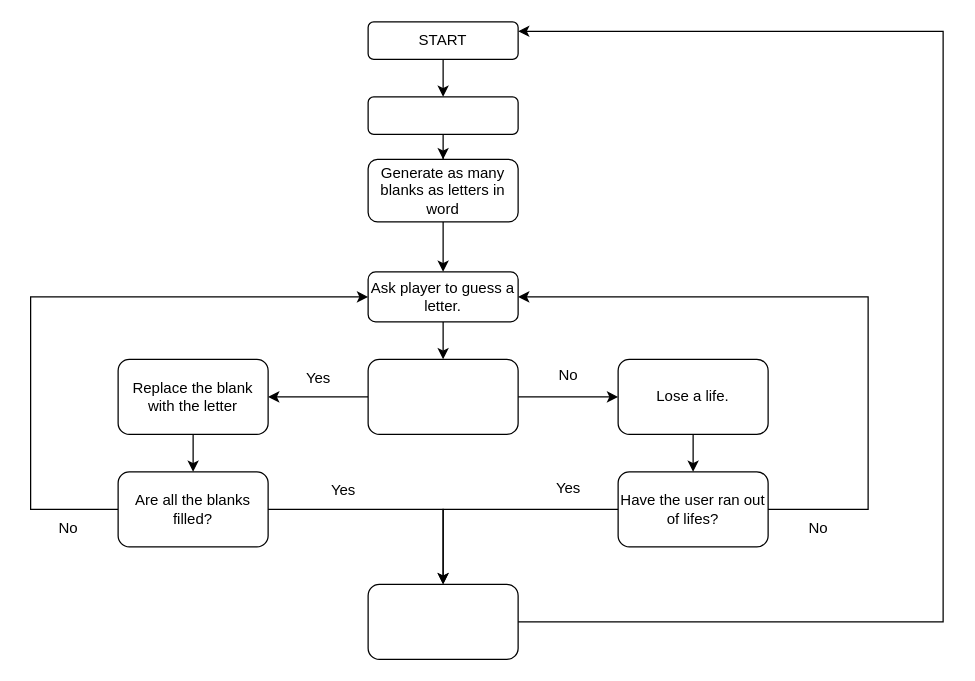
The diagram is 975 pixels wide and 681 high, and some of its shapes have lost their labels. The shapes that lost their labels are listed below. From the top down, each one's centre as x and y in pixels, then its label:
[442,115]: Generate a random word. Give tip?
[442,396]: Is the guessed letter in the word?
[442,621]: GAME OVER
